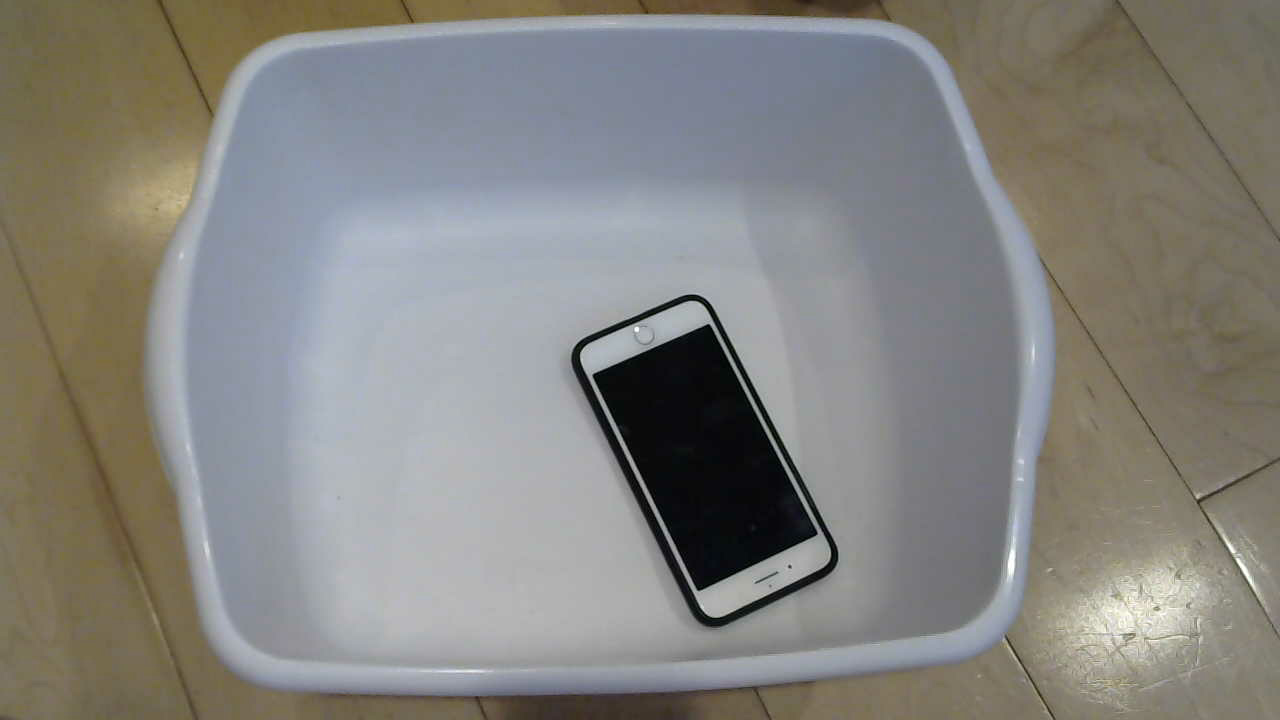phone: (567, 299, 846, 633)
